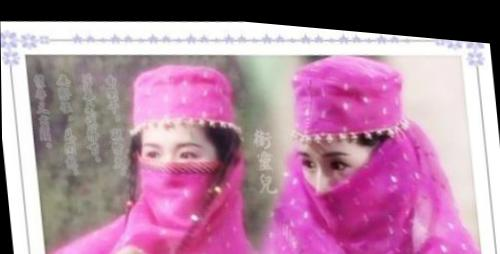OK: (140, 127, 225, 224)
WRONG: (295, 131, 386, 227)
